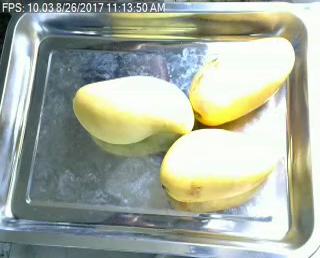Mango: (187, 36, 299, 128), (155, 125, 283, 205), (69, 75, 197, 149)
